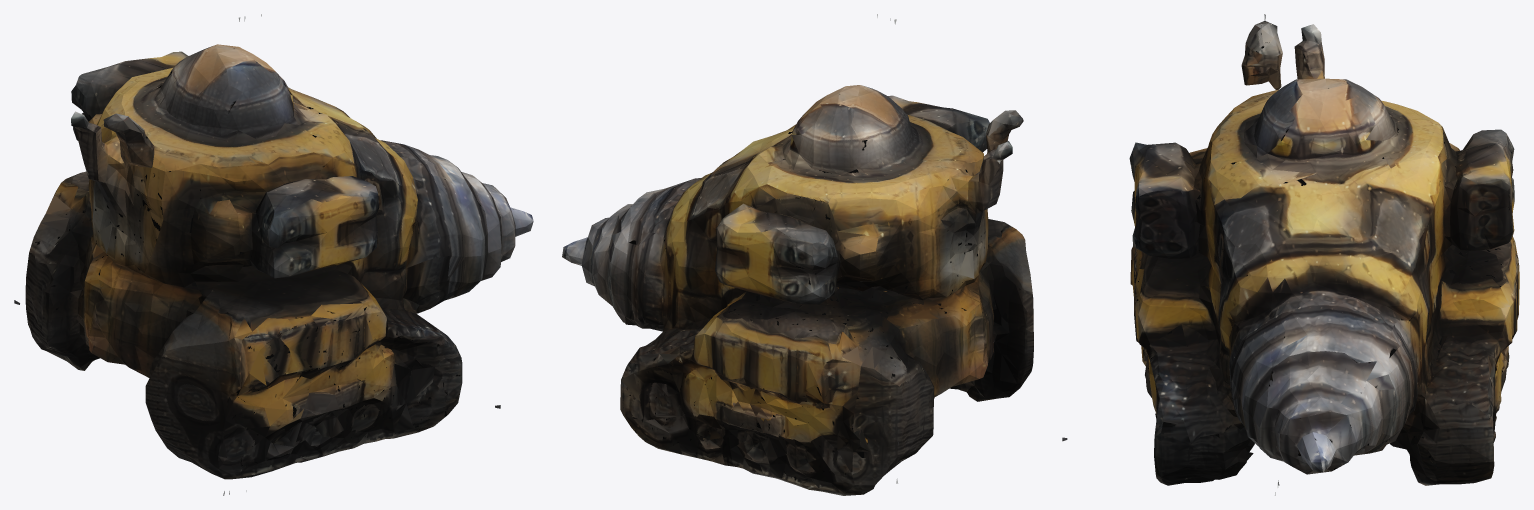
File: minion_siege_3.glb
3 views of the same model, side by side, from view 1: azimuth 30°, elevation 25°; view 2: azimuth 150°, elevation 25°; view 3: azimuth 270°, elevation 25° (orthographic). The views are drawn at different scales.
Parts seen in each view (by area): view 1: test (17); view 2: test (17); view 3: test (17).
Part boxes in pixels (box(x1,y1,x2,y2)): test (17): box(14, 14, 533, 495); test (17): box(562, 14, 1033, 495); test (17): box(1062, 14, 1519, 495).
Bounding box in the file's own units: 2.95 × 2.9 × 2.53.
1 material, 1 textured.
